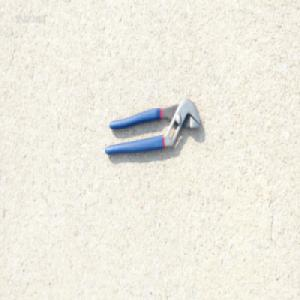Pliers: (103, 98, 201, 157)
